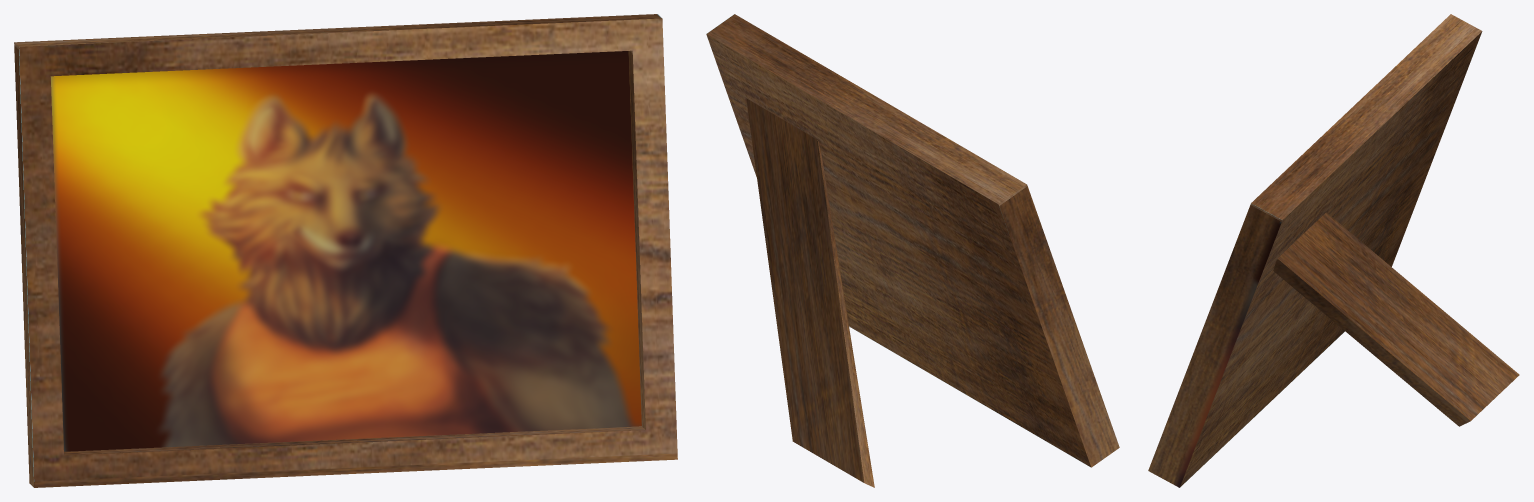
File: zdjecie.glb
The picture shows the model from 3 angles, left to right: view 1: azimuth 30°, elevation 25°; view 2: azimuth 150°, elevation 25°; view 3: azimuth 270°, elevation 25°; orthographic projection. The views are drawn at different scales.
Parts seen in each view (by area): view 1: biurko.057; view 2: biurko.057; view 3: biurko.057.
Boxes of the visible parts, x1=… form: biurko.057: x1=14, y1=14, x2=677, y2=487; biurko.057: x1=706, y1=14, x2=1119, y2=487; biurko.057: x1=1148, y1=14, x2=1519, y2=487.
Bounding box in the file's own units: 0.4285 × 0.2861 × 0.3136.
1 material, 1 textured.
